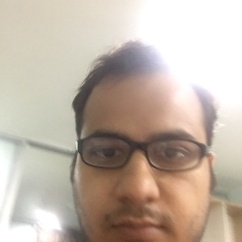glasses: (75, 135, 212, 171)
